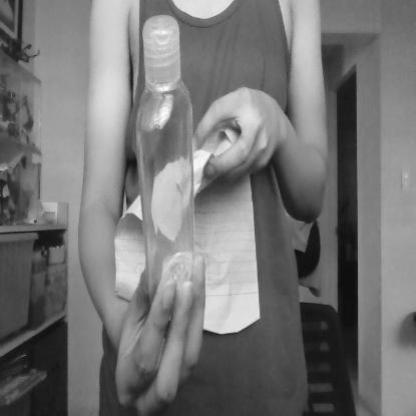Plastic Bottle: (133, 14, 199, 343)
